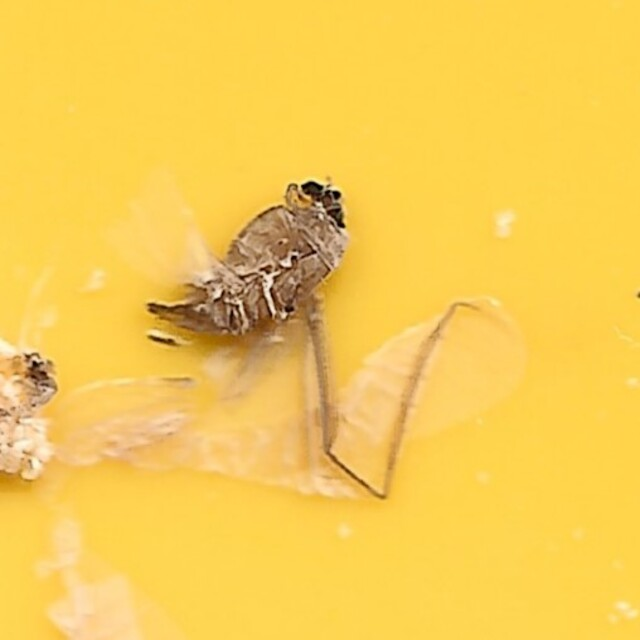Ephemeroptera: (126, 134, 514, 506)
